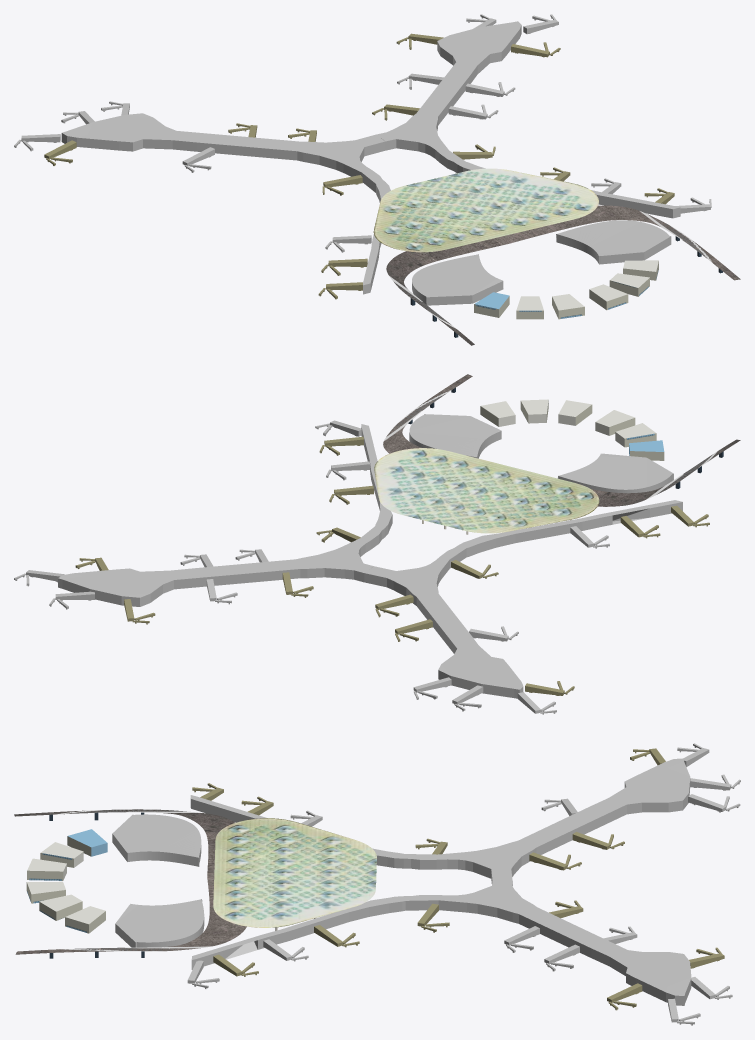
File: T2TerminalWithTextureFinal.obj
The picture shows the model from 3 angles, top to bottom: view 1: azimuth 30°, elevation 25°; view 2: azimuth 150°, elevation 25°; view 3: azimuth 270°, elevation 25°; orthographic projection. The views are drawn at different scales.
Parts seen in each view (by area): view 1: Cube.000, object_28, Cylinder.003_Cylinder.016, Plane.001, Plane, Cube_Cube.001, Cube.001_Cube.002, Cube.005_Cube.006, Cube.003_Cube.004, Cube.004_Cube.005, Cube.002_Cube.003; view 2: Cube.000, object_28, Plane, Plane.001, Cylinder.003_Cylinder.016, Cube.003_Cube.004, Cube.002_Cube.003, Cube_Cube.001, Cube.004_Cube.005, Cube.001_Cube.002, Cube.005_Cube.006; view 3: Cube.000, object_28, Plane, Cylinder.003_Cylinder.016, Plane.001, Cube.001_Cube.002, Cube.002_Cube.003, Cube.003_Cube.004, Cube.005_Cube.006, Cube.004_Cube.005, Cube_Cube.001.
Part boxes in pixels (left/top/right/bottom): Cube.000: left=61, top=21, right=680, bottom=294; object_28: left=373, top=168, right=598, bottom=252; Cylinder.003_Cylinder.016: left=386, top=205, right=740, bottom=345; Plane.001: left=556, top=220, right=671, bottom=264; Plane: left=412, top=254, right=503, bottom=305; Cube_Cube.001: left=589, top=284, right=628, bottom=310; Cube.001_Cube.002: left=609, top=273, right=649, bottom=296; Cube.005_Cube.006: left=474, top=292, right=509, bottom=317; Cube.003_Cube.004: left=552, top=294, right=584, bottom=319; Cube.004_Cube.005: left=516, top=296, right=543, bottom=319; Cube.002_Cube.003: left=623, top=260, right=658, bottom=280; Cube.000: left=58, top=424, right=682, bottom=698; object_28: left=374, top=448, right=599, bottom=533; Plane: left=557, top=453, right=673, bottom=493; Plane.001: left=409, top=414, right=501, bottom=458; Cylinder.003_Cylinder.016: left=383, top=374, right=740, bottom=506; Cube.003_Cube.004: left=595, top=410, right=635, bottom=435; Cube.002_Cube.003: left=480, top=401, right=515, bottom=426; Cube_Cube.001: left=558, top=400, right=592, bottom=425; Cube.004_Cube.005: left=615, top=423, right=656, bottom=447; Cube.001_Cube.002: left=520, top=399, right=548, bottom=423; Cube.005_Cube.006: left=629, top=440, right=664, bottom=460; Cube.000: left=190, top=758, right=691, bottom=1005; object_28: left=213, top=818, right=376, bottom=927; Plane: left=112, top=814, right=201, bottom=866; Cylinder.003_Cylinder.016: left=14, top=809, right=246, bottom=954; Plane.001: left=115, top=899, right=204, bottom=947; Cube.001_Cube.002: left=39, top=894, right=82, bottom=920; Cube.002_Cube.003: left=65, top=906, right=105, bottom=933; Cube.003_Cube.004: left=27, top=858, right=66, bottom=880; Cube.005_Cube.006: left=67, top=829, right=107, bottom=856; Cube.004_Cube.005: left=40, top=842, right=83, bottom=867; Cube_Cube.001: left=26, top=881, right=65, bottom=903.
Size of what is drawn, in the model's own units: 1664 by 43.07 by 1830.
